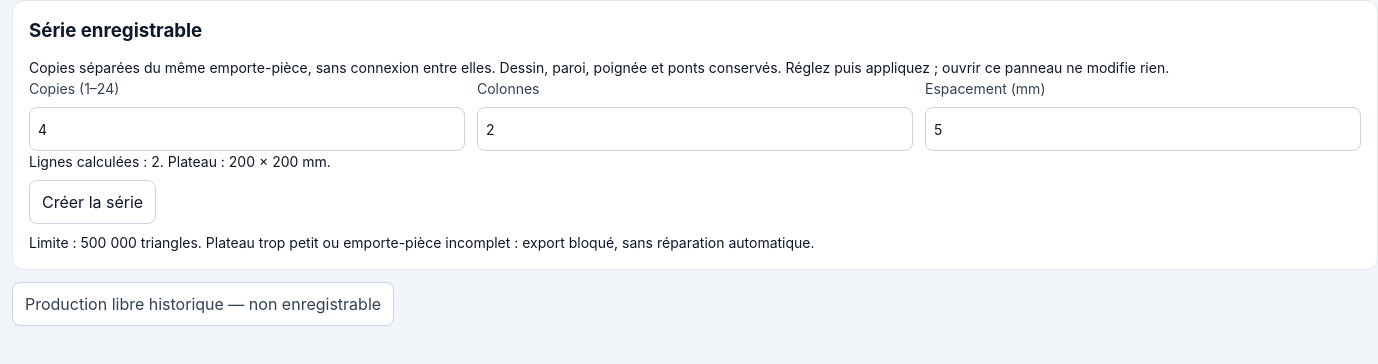
Test: refuses invalid or non-finite values and reports an accessible error
Replace the text in the number field with id "series-copies" with "25" at (247, 129), box [29,107,465,151]
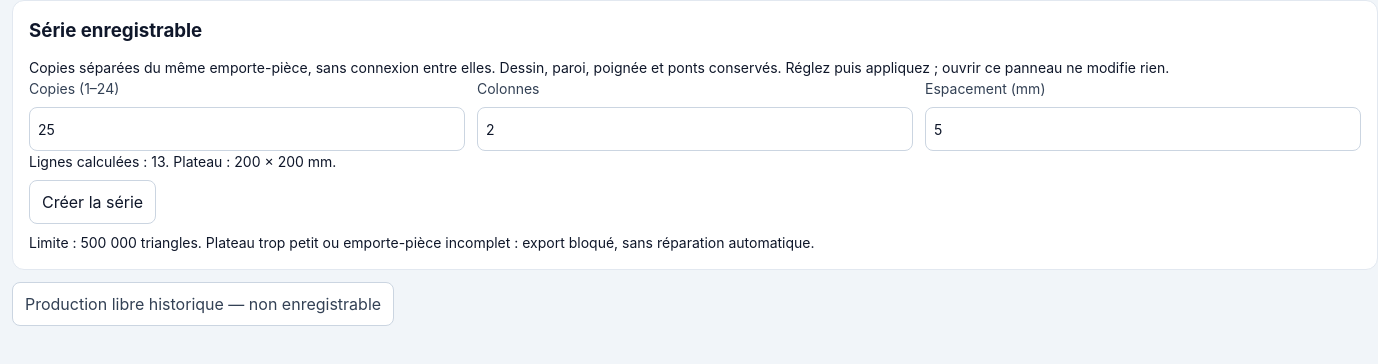
Click the button "Créer la série" at (93, 202), box [29,180,156,224]
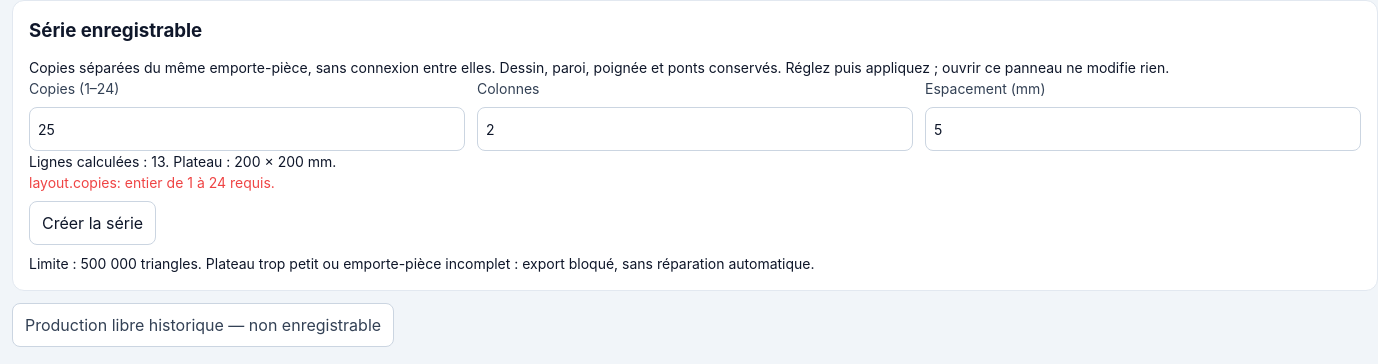
Expected: the message "layout.copies: entier de 1 à 24 requis." is shown, [29,174,275,191]
